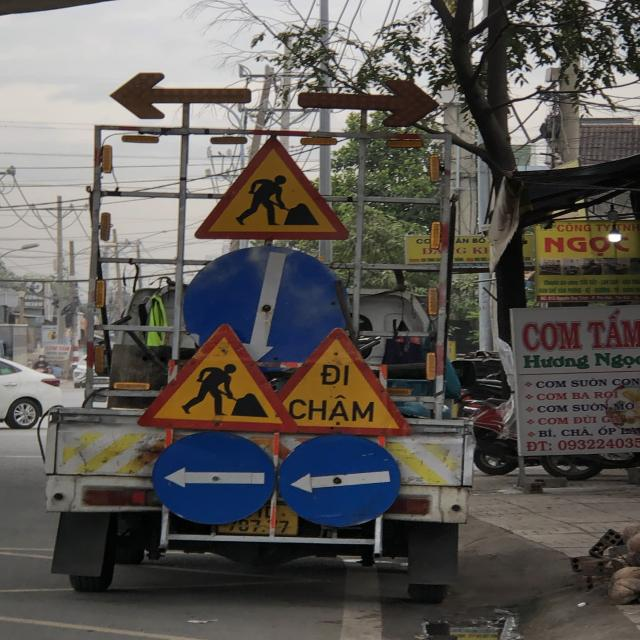Bien bao cong truong: (135, 321, 302, 436), (194, 134, 354, 245)
